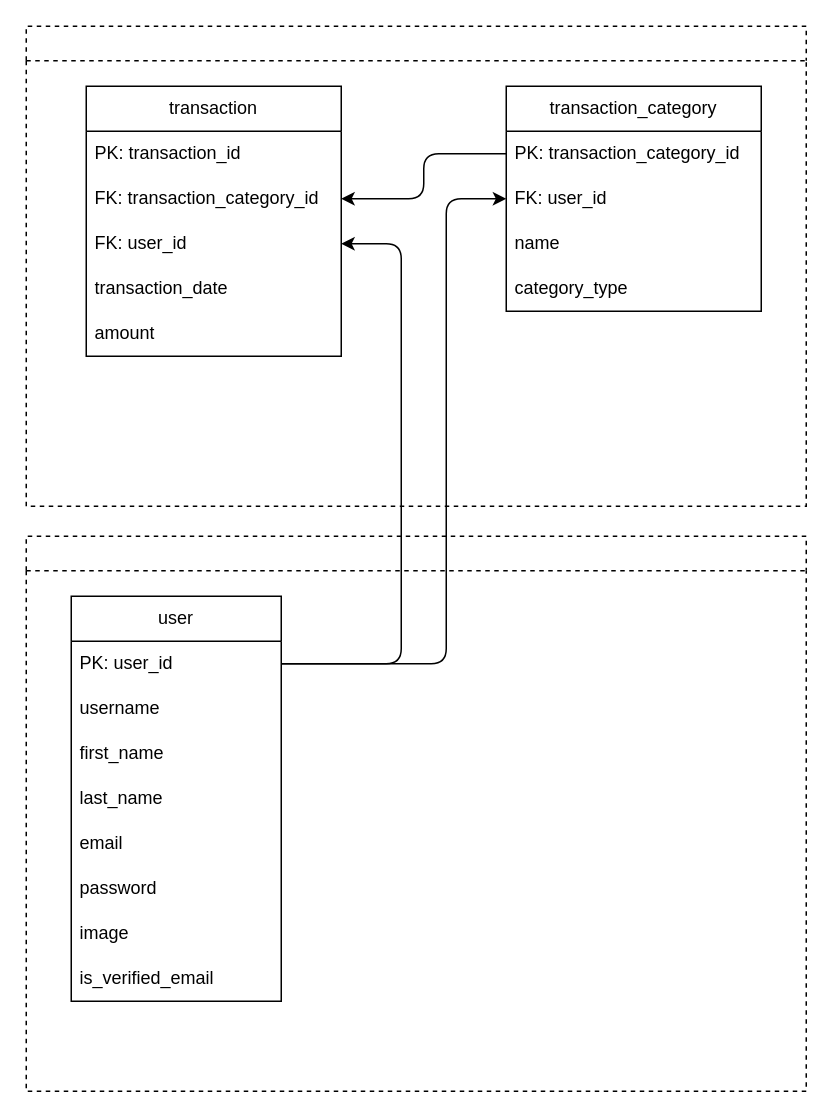
The diagram is 833 pixels wide and 1118 high, and some of its shapes have lost their labels. The shapes that lost their labels are listed below. From the top down, each one's box as (x1, y1, x2, y2) in pixels, then its label:
(25, 25, 806, 506): pockets_app
(25, 535, 806, 1091): users_app
